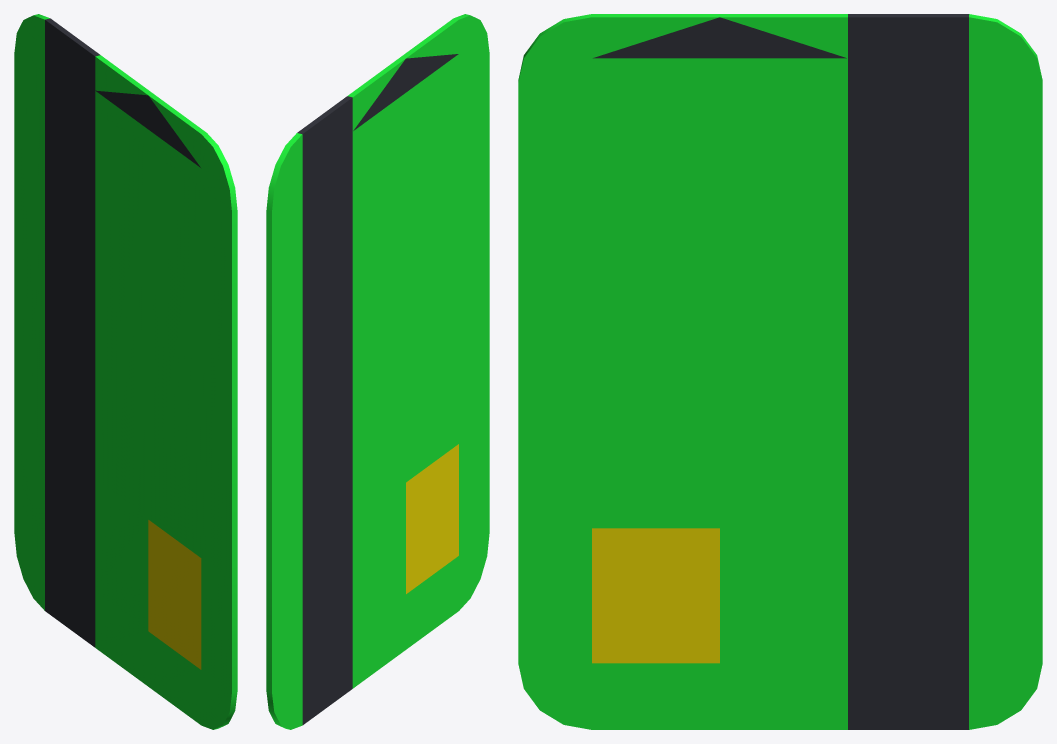
File: Key_Green.fbx
The picture shows the model from 3 angles, left to right: view 1: azimuth 30°, elevation 25°; view 2: azimuth 150°, elevation 25°; view 3: azimuth 270°, elevation 25°; orthographic projection. The views are drawn at different scales.
Visible parts, largest first — view 1: Key_Green; view 2: Key_Green; view 3: Key_Green.
Boxes of the visible parts, box(x1,y1,x2,y2) form: Key_Green: box(14, 14, 237, 729); Key_Green: box(266, 14, 489, 729); Key_Green: box(518, 14, 1042, 729).
Size of the model in its own units: 0.5245 by 53.71 by 35.82.
